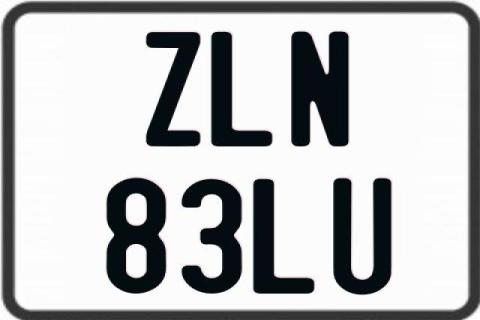0: (105, 177, 168, 297), (180, 178, 244, 294)
L: (209, 30, 274, 150), (251, 177, 317, 295)
N: (288, 31, 350, 150)
U: (332, 177, 394, 296)
Z: (146, 30, 206, 146)
